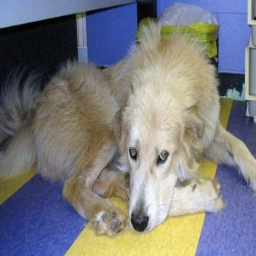dog: (7, 35, 254, 237)
